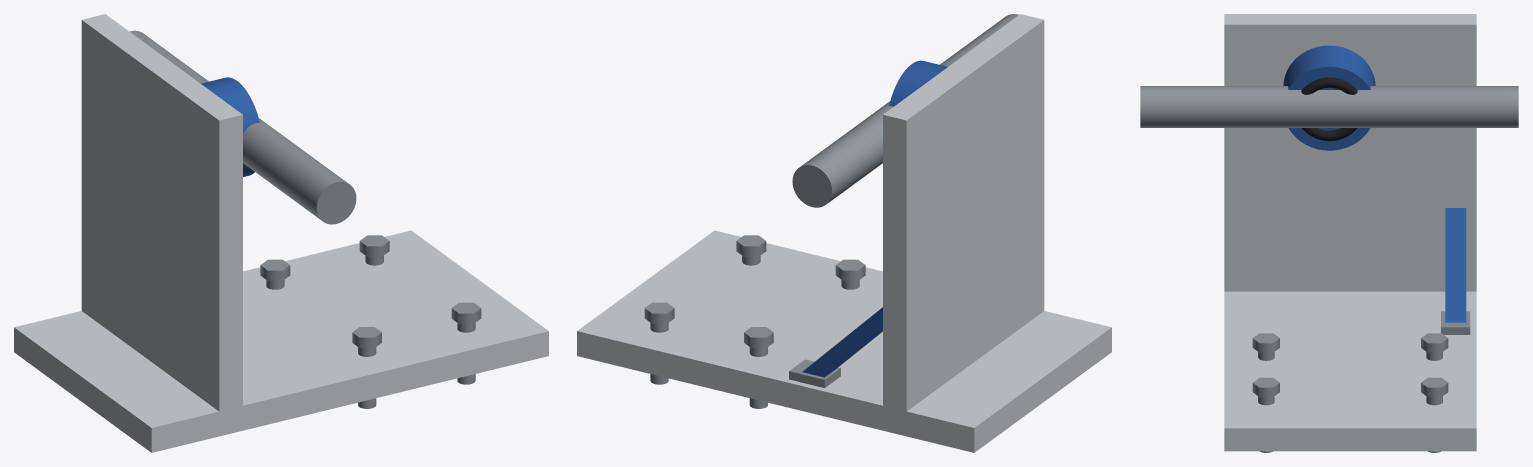
File: sample.glb
3 views of the same model, side by side, from view 1: azimuth 30°, elevation 25°; view 2: azimuth 150°, elevation 25°; view 3: azimuth 270°, elevation 25° (orthographic). The views are drawn at different scales.
Parts seen in each view (by area): view 1: Base Plate-1, Upright-1, Shaft Ø20-1, Hex Head (×4), Housing; view 2: Upright-1, Base Plate-1, Shaft Ø20-1, Gusset-1, Hex Head (×4), Housing; view 3: Upright-1, Base Plate-1, Shaft Ø20-1, Housing, Gusset-1, Hex Head (×4), Seal.
Part boxes in pixels (box(x1,y1,x2,y2)): Base Plate-1: box(14, 230, 548, 452); Upright-1: box(81, 14, 242, 411); Shaft Ø20-1: box(129, 30, 356, 224); Hex Head (×4): box(260, 235, 481, 348); Housing: box(201, 77, 259, 176); Upright-1: box(883, 14, 1044, 411); Base Plate-1: box(577, 230, 1111, 452); Shaft Ø20-1: box(792, 14, 1018, 207); Gusset-1: box(789, 307, 882, 387); Hex Head (×4): box(644, 235, 865, 348); Housing: box(889, 60, 947, 106); Upright-1: box(1224, 14, 1476, 291); Base Plate-1: box(1224, 291, 1476, 451); Shaft Ø20-1: box(1140, 86, 1518, 127); Housing: box(1283, 45, 1375, 150); Gusset-1: box(1441, 208, 1470, 334); Hex Head (×4): box(1252, 333, 1448, 397); Seal: box(1301, 77, 1357, 140).
Bounding box in the file's own units: 0.2 × 0.165 × 0.18.
